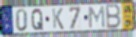0: (14, 8, 29, 32)
7: (69, 6, 82, 31)
B: (106, 4, 122, 30)
K: (52, 8, 65, 31)
M: (88, 5, 106, 29)
Q: (31, 8, 45, 32)
